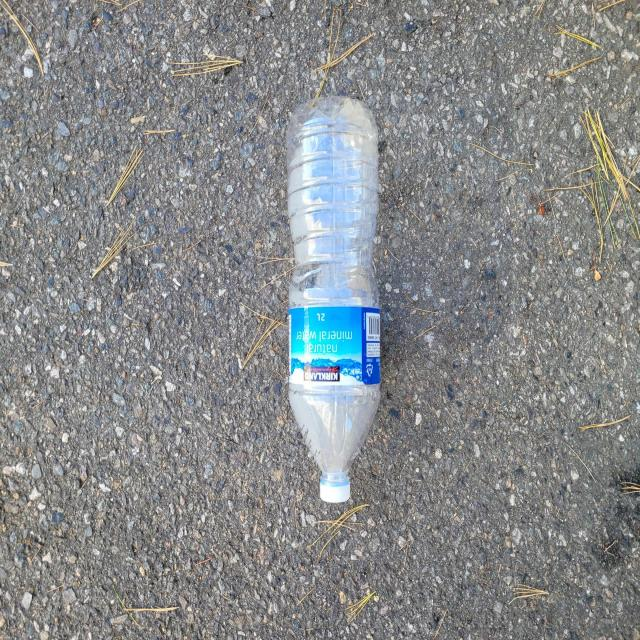plastic_bottle: (286, 98, 381, 502)
